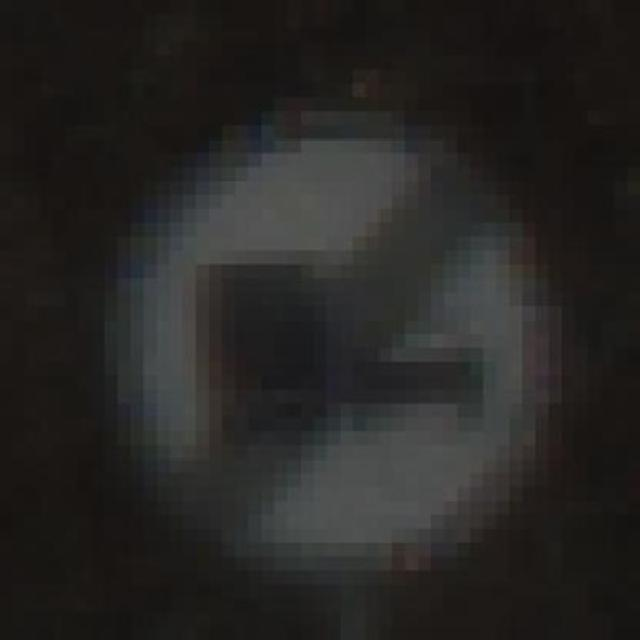Overtaking by trucks is prohibited: (90, 56, 588, 598)
